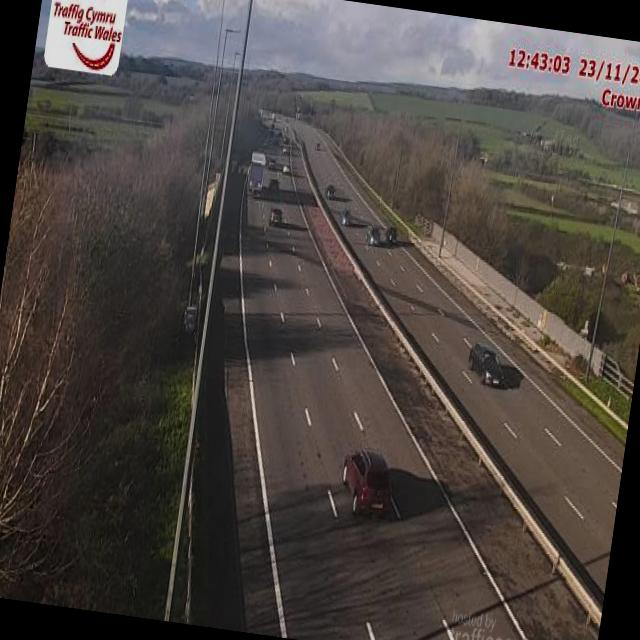foliage: (0, 116, 203, 614), (317, 108, 526, 267)
